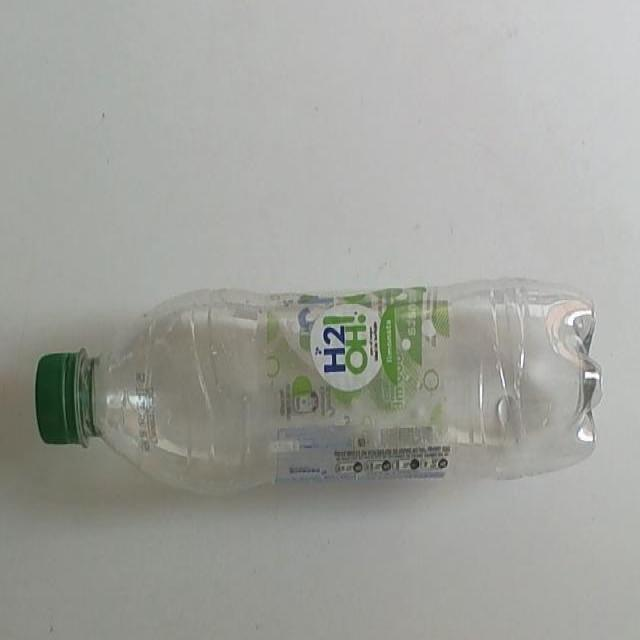non-defect: (32, 274, 605, 501)
